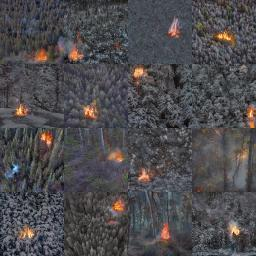Small fire: (103, 146, 126, 165), (167, 18, 183, 40), (17, 226, 40, 241), (158, 225, 177, 243), (67, 46, 85, 63), (37, 132, 56, 148), (30, 47, 50, 62), (245, 106, 256, 133), (110, 197, 126, 214), (134, 168, 153, 182), (231, 223, 244, 239), (216, 31, 233, 43), (12, 104, 27, 116), (84, 106, 97, 119), (132, 66, 144, 80)
